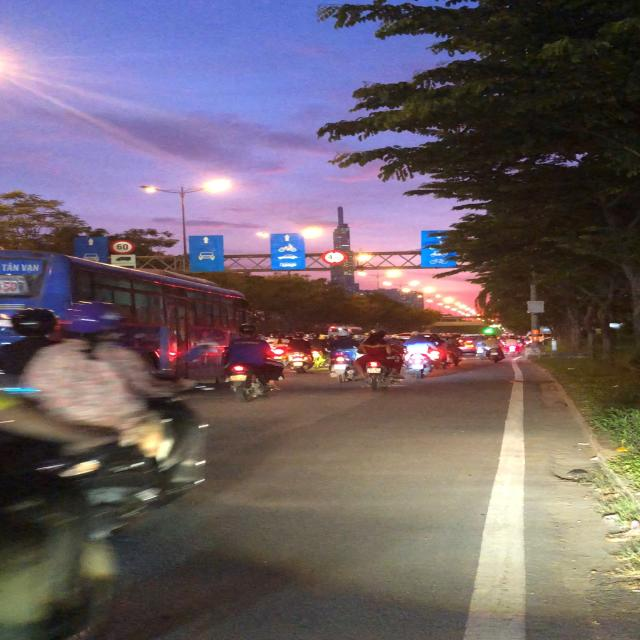Bien bao toc do toi da cho phep: (105, 237, 138, 255)
